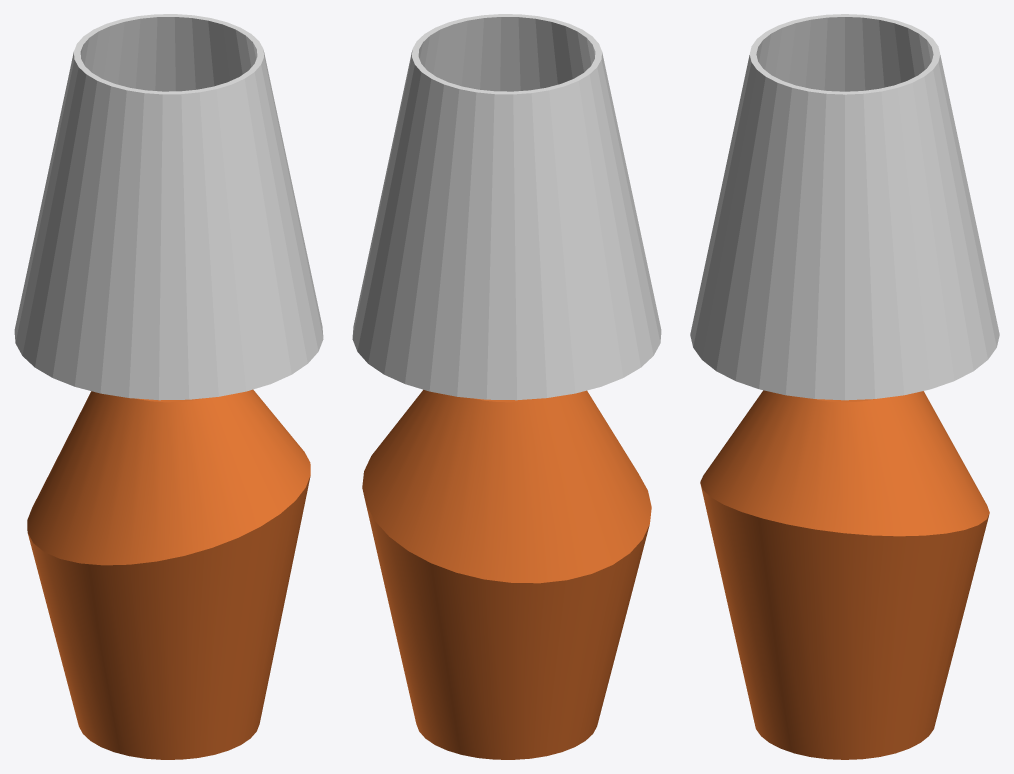
File: Lamp final.fbx
3 views of the same model, side by side, from view 1: azimuth 30°, elevation 25°; view 2: azimuth 150°, elevation 25°; view 3: azimuth 270°, elevation 25° (orthographic).
Visible parts, largest first — view 1: Cylinder.002, Cylinder; view 2: Cylinder.002, Cylinder; view 3: Cylinder.002, Cylinder.
Part boxes in pixels (x1,y1,x2,y2): Cylinder.002: (14,14,323,400); Cylinder: (27,389,310,759); Cylinder.002: (352,14,661,400); Cylinder: (362,389,651,759); Cylinder.002: (690,14,999,400); Cylinder: (700,390,989,759).
Size of the model in its own units: 51.63 by 123 by 51.63.
